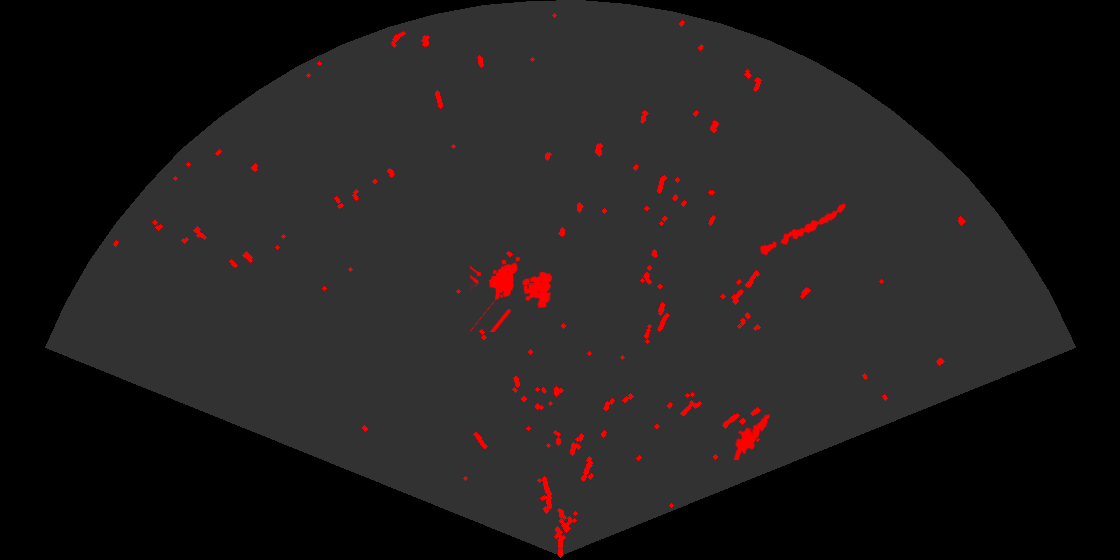cage: (470, 255, 554, 332)
chain: (758, 202, 847, 257)
frogman: (732, 405, 772, 460)
